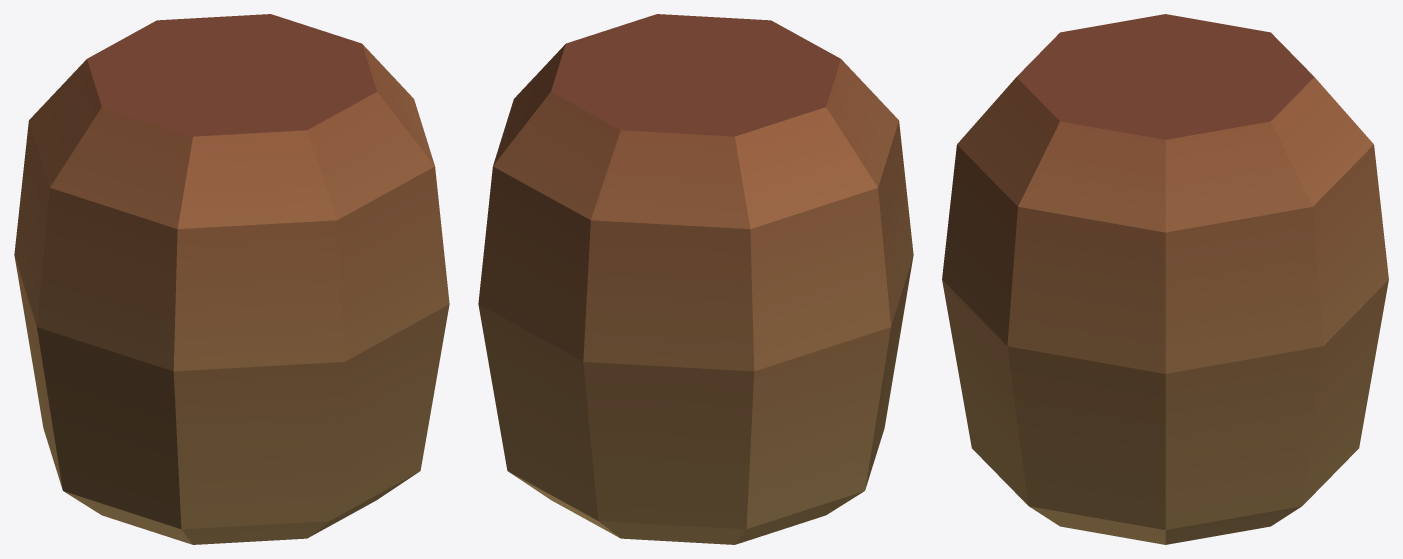
The model's file is lantern.glb.
3 renders of one model, left to right at view 1: azimuth 30°, elevation 25°; view 2: azimuth 150°, elevation 25°; view 3: azimuth 270°, elevation 25°, orthographic.
Visible parts, largest first — view 1: lantern; view 2: lantern; view 3: lantern.
Boxes of the visible parts, x1,y1,x2,y2 form: lantern: (14,14,449,544); lantern: (478,14,913,544); lantern: (942,14,1388,544).
Size of the model in its own units: 0.6 by 0.6 by 0.6.
